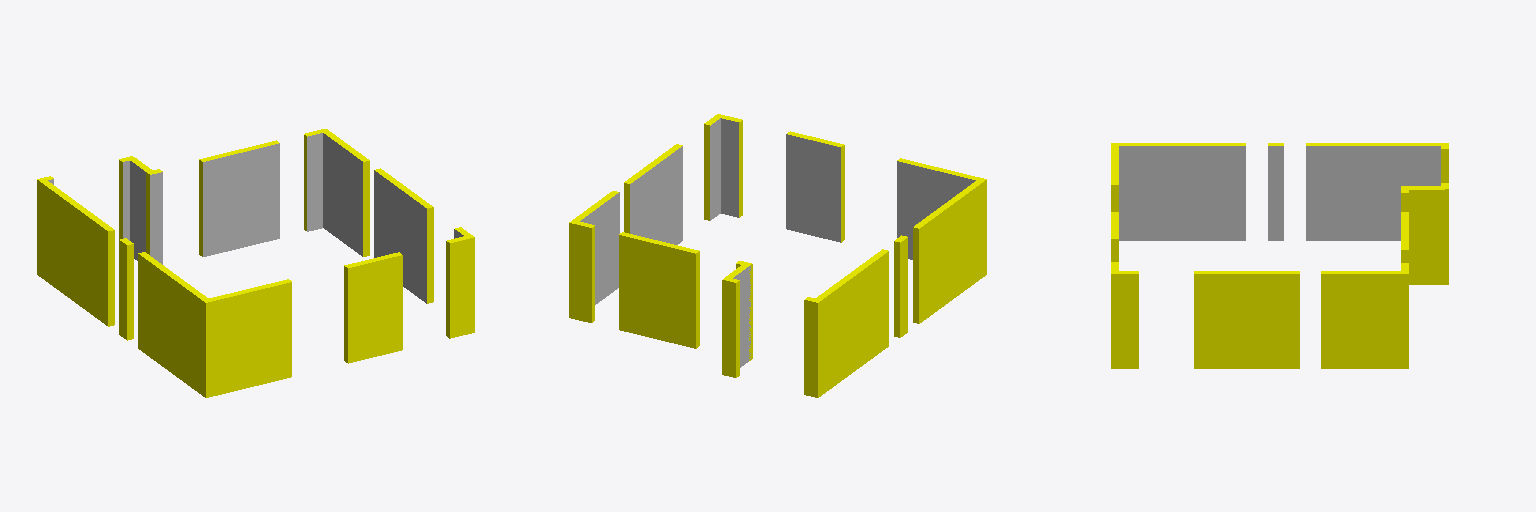
Rendered from wall_outline_cleaned.obj.
The picture shows the model from 3 angles: view 1: azimuth 30°, elevation 25°; view 2: azimuth 150°, elevation 25°; view 3: azimuth 270°, elevation 25°; orthographic projection.
Parts seen in each view (by area): view 1: Building_Outline_Merged; view 2: Building_Outline_Merged; view 3: Building_Outline_Merged.
Boxes of the visible parts, x1=… form: Building_Outline_Merged: x1=37, y1=129, x2=474, y2=397; Building_Outline_Merged: x1=569, y1=114, x2=986, y2=397; Building_Outline_Merged: x1=1111, y1=143, x2=1448, y2=368.
Bounding box in the file's own units: 8.87 × 3 × 9.64.